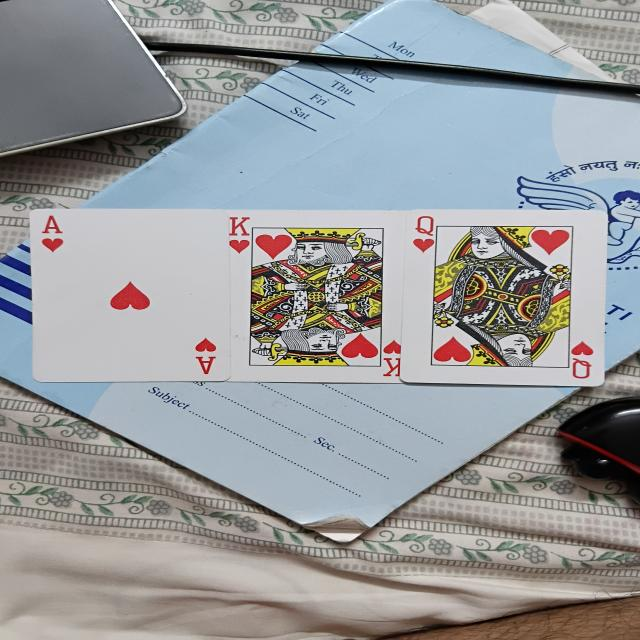AH: (28, 207, 232, 381)
QH: (406, 207, 610, 387)
